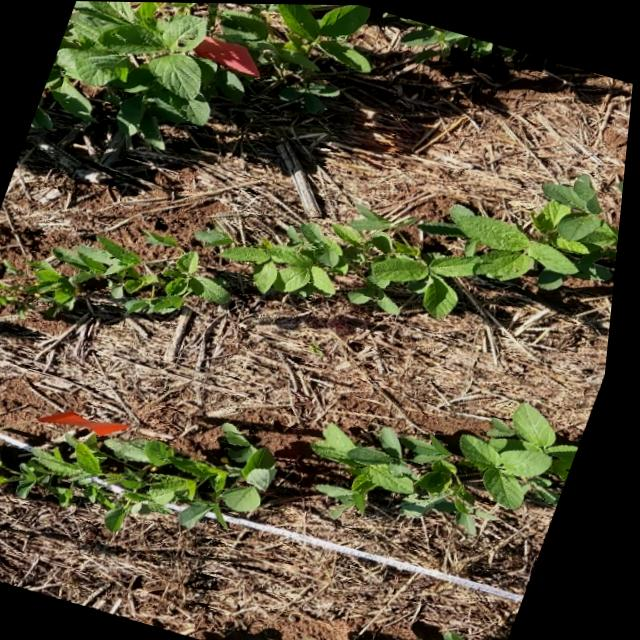soy_plant: (198, 173, 623, 315), (33, 1, 370, 146), (320, 401, 586, 531), (0, 422, 285, 530), (0, 237, 233, 312)
